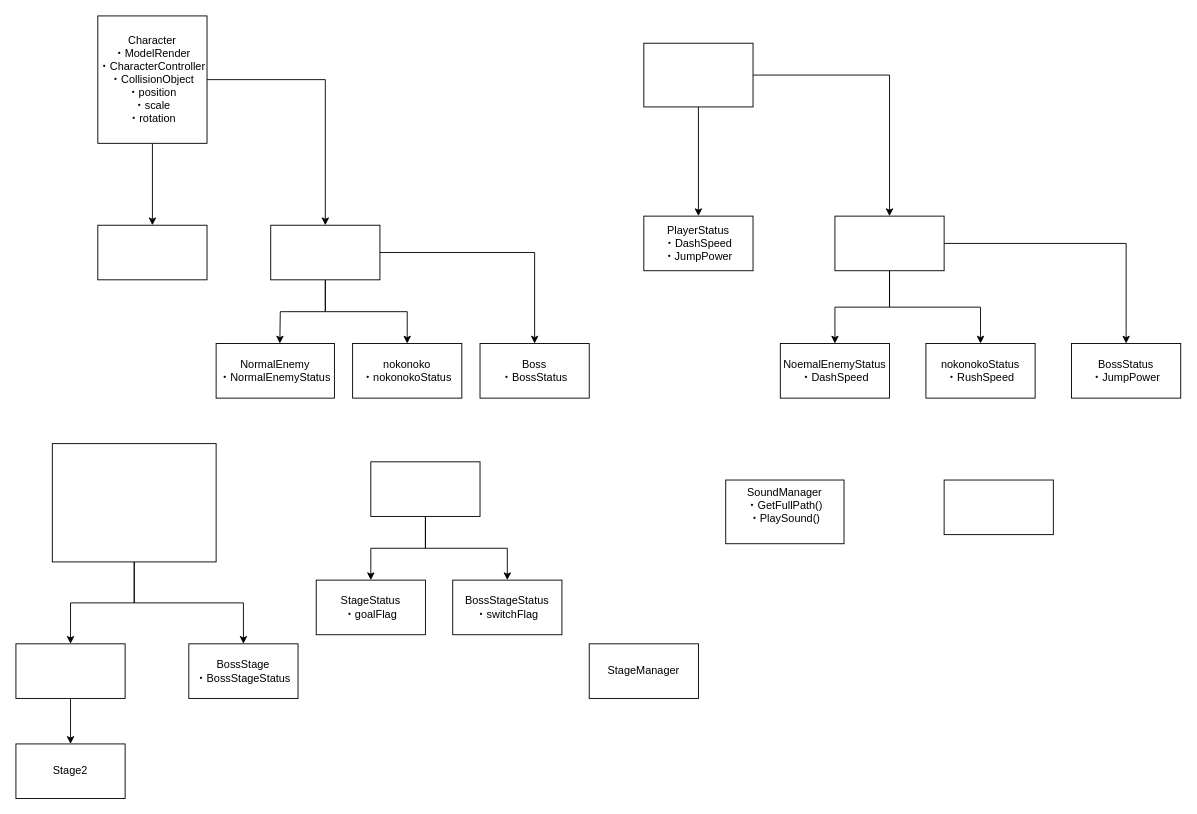
Some shapes in this 1197 by 814 pixel diagram are drawn without their labels. The shapes that lost their labels are listed below. From the top down, each one's box as (x1, y1, x2, y2) in pixels, then its label:
(643, 42, 753, 107): CharacterStatus ・判定のサイズ ・HP ・WalkSpeed
(97, 224, 207, 280): Player ・ PlayerStatus
(270, 224, 380, 280): Enemy
(834, 215, 944, 271): EnemyStatus
(51, 443, 216, 562): Stage ・ModelRender ・PhysicStaticObjectCollision ・CollisionObject ・position
(370, 461, 480, 516): StageStatus ・落下判定
(15, 643, 125, 698): Stage1 ・StageStatus
